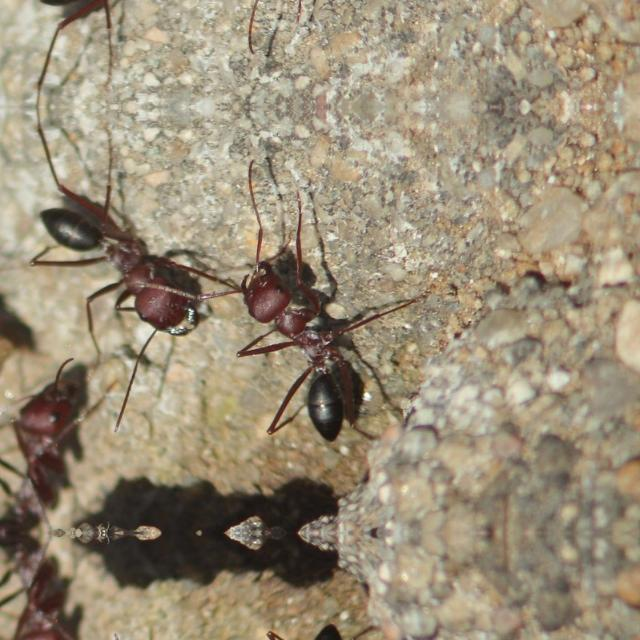Cataglyphis: (214, 253, 384, 451), (21, 193, 222, 349), (0, 366, 114, 532), (0, 532, 114, 640)
